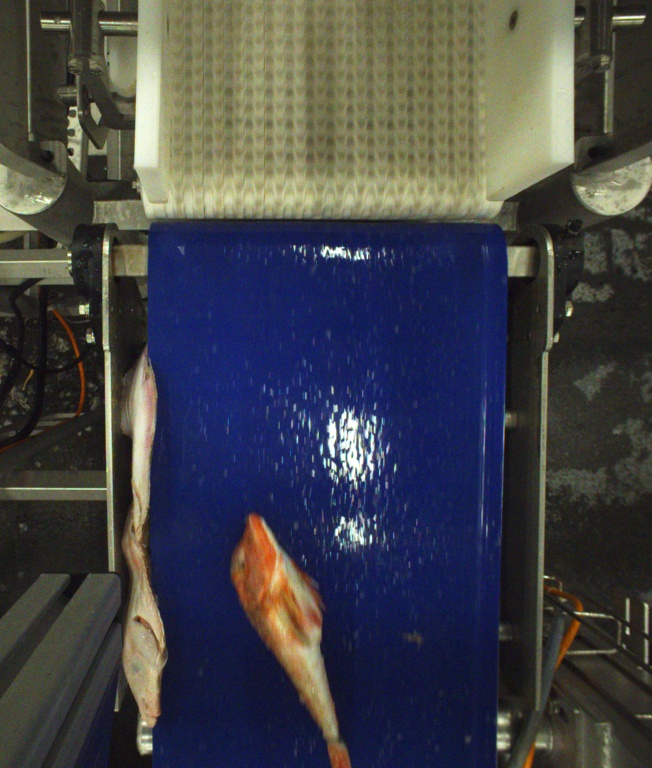GUU: (228, 515, 353, 768)
